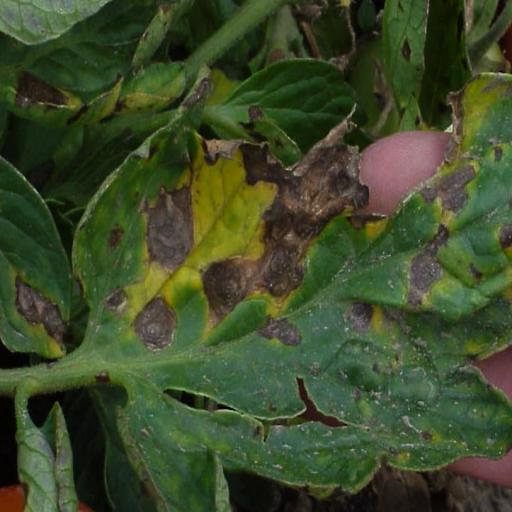disease_tomato: (72, 114, 512, 500)
